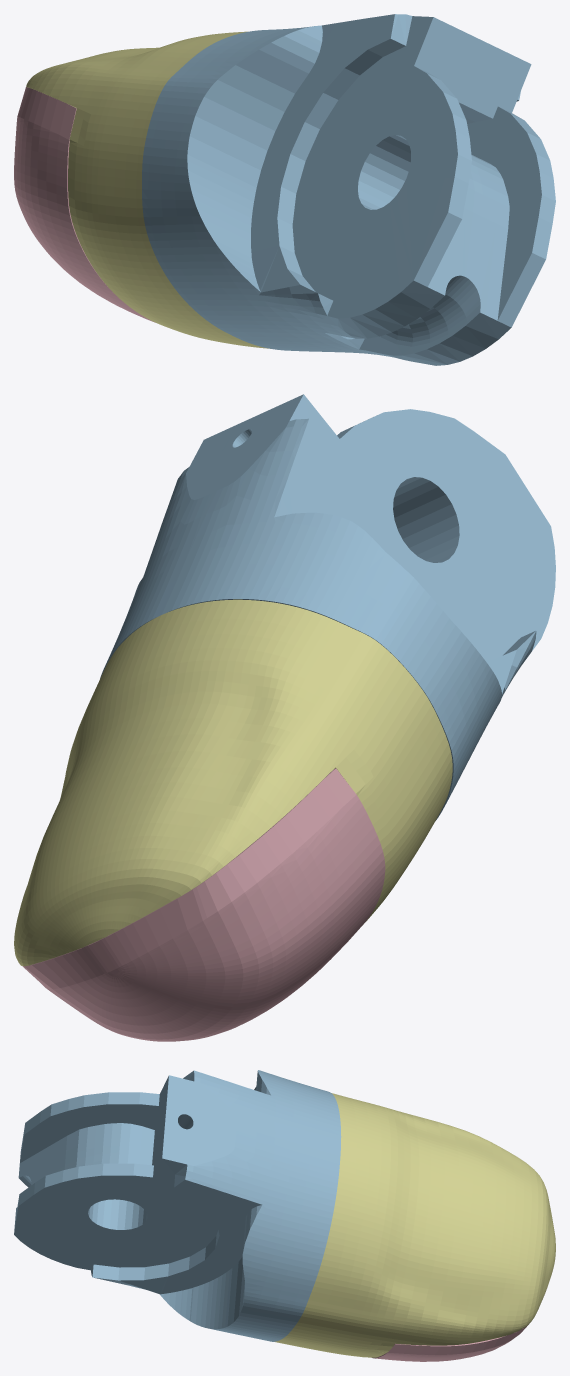
File: i02_leftHand_pinkyTip_visual.obj
3 views of the same model, one above another, from view 1: azimuth 30°, elevation 25°; view 2: azimuth 150°, elevation 25°; view 3: azimuth 270°, elevation 25° (orthographic). The views are drawn at different scales.
Visible parts, largest first — view 1: i02_leftHand_pinkyTip_visual.001; view 2: i02_leftHand_pinkyTip_visual.001; view 3: i02_leftHand_pinkyTip_visual.001.
Part boxes in pixels (left/top/right/bottom): i02_leftHand_pinkyTip_visual.001: left=14, top=14, right=555, bottom=365; i02_leftHand_pinkyTip_visual.001: left=14, top=394, right=555, bottom=1041; i02_leftHand_pinkyTip_visual.001: left=14, top=1070, right=555, bottom=1361.
Size of the model in its own units: 0.1654 by 0.1995 by 0.3261.
